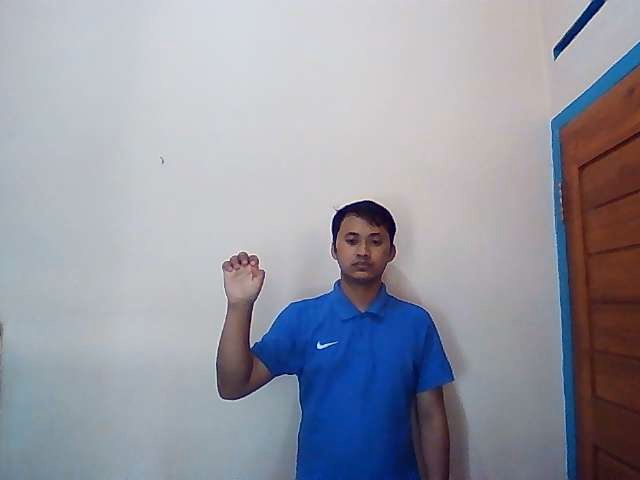E: (220, 251, 266, 310)
